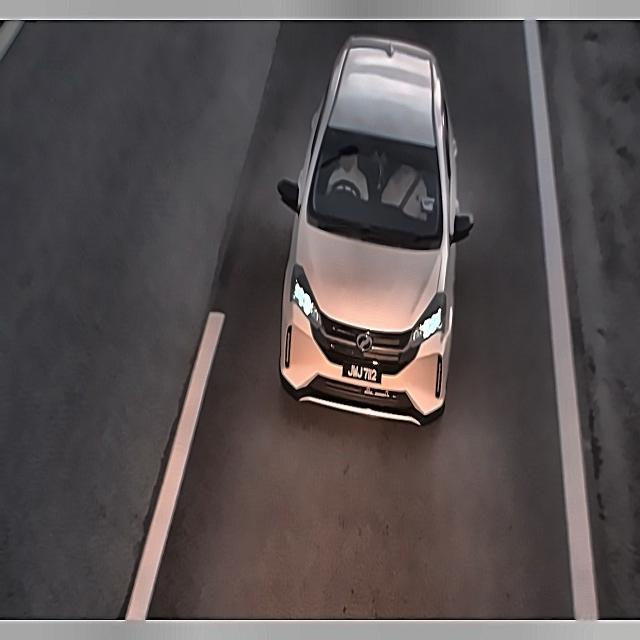car: (339, 356, 387, 390)
